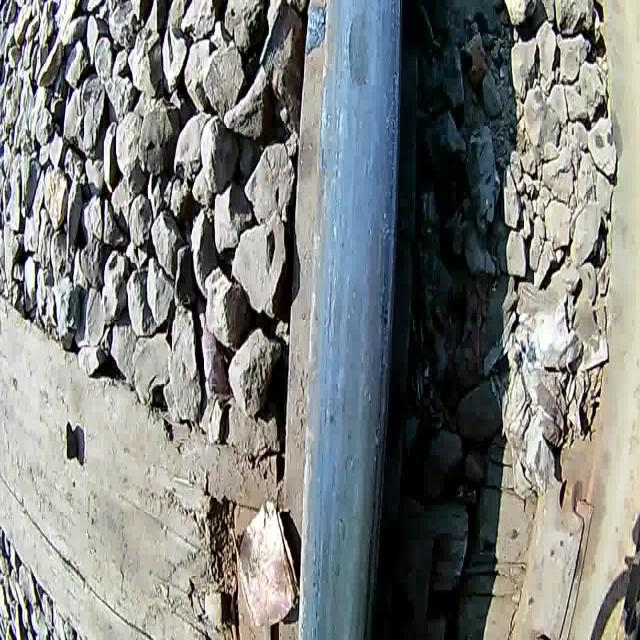Squats: (281, 1, 421, 640)
